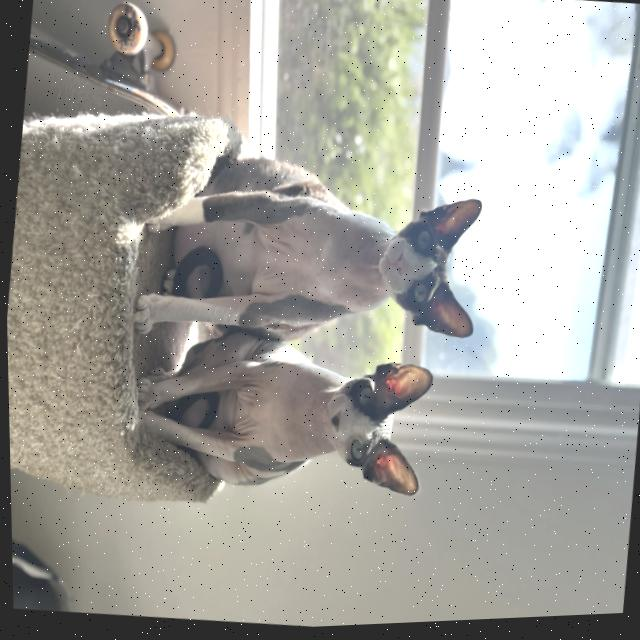Cornish Rex: (122, 133, 494, 377), (117, 311, 442, 520)
